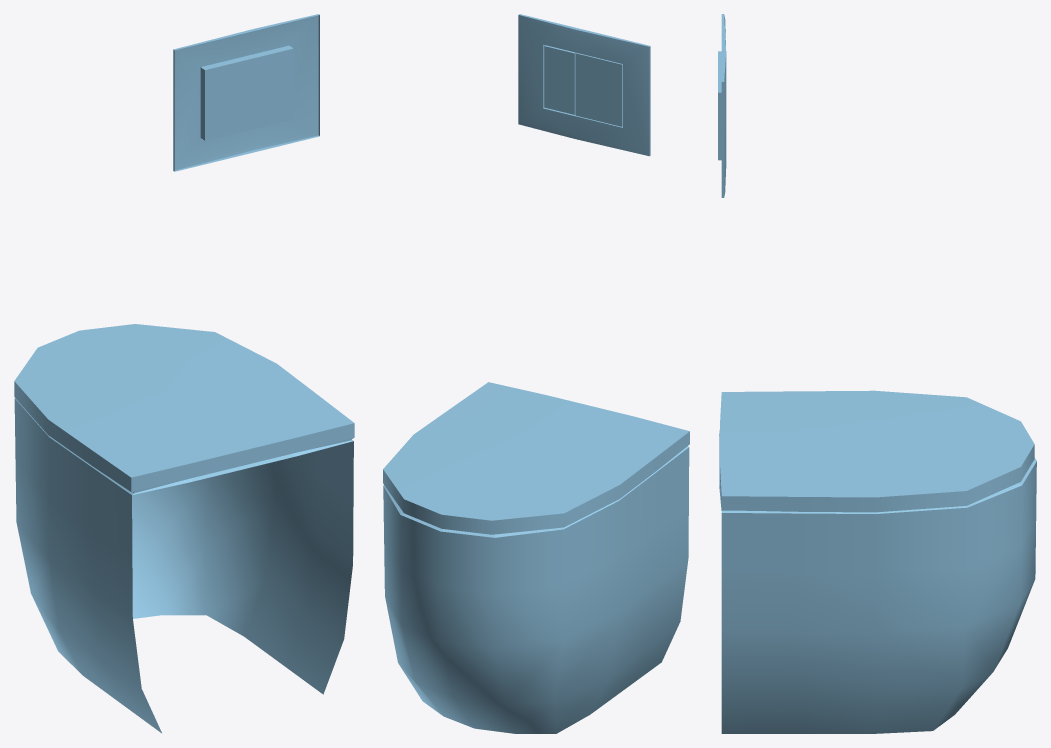
File: Prop_wc1.FBX
3 renders of one model, left to right at view 1: azimuth 30°, elevation 25°; view 2: azimuth 150°, elevation 25°; view 3: azimuth 270°, elevation 25°, orthographic. The views are drawn at different scales.
Visible parts, largest first — view 1: Prop_wc1; view 2: Prop_wc1; view 3: Prop_wc1.
Boxes of the visible parts, x1,y1,x2,y2 form: Prop_wc1: (14, 14, 354, 733); Prop_wc1: (383, 14, 689, 733); Prop_wc1: (718, 14, 1036, 733).
Bounding box in the file's own units: 21.3 × 26.89 × 60.55.
